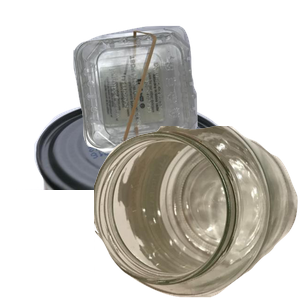glass: (94, 126, 300, 300)
metal: (16, 96, 244, 276)
plastic: (71, 23, 300, 169)
trash: (120, 131, 290, 300)
